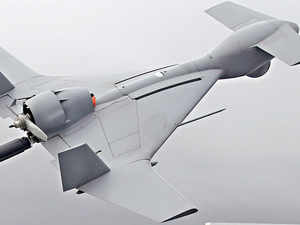drone: (1, 1, 300, 222)
